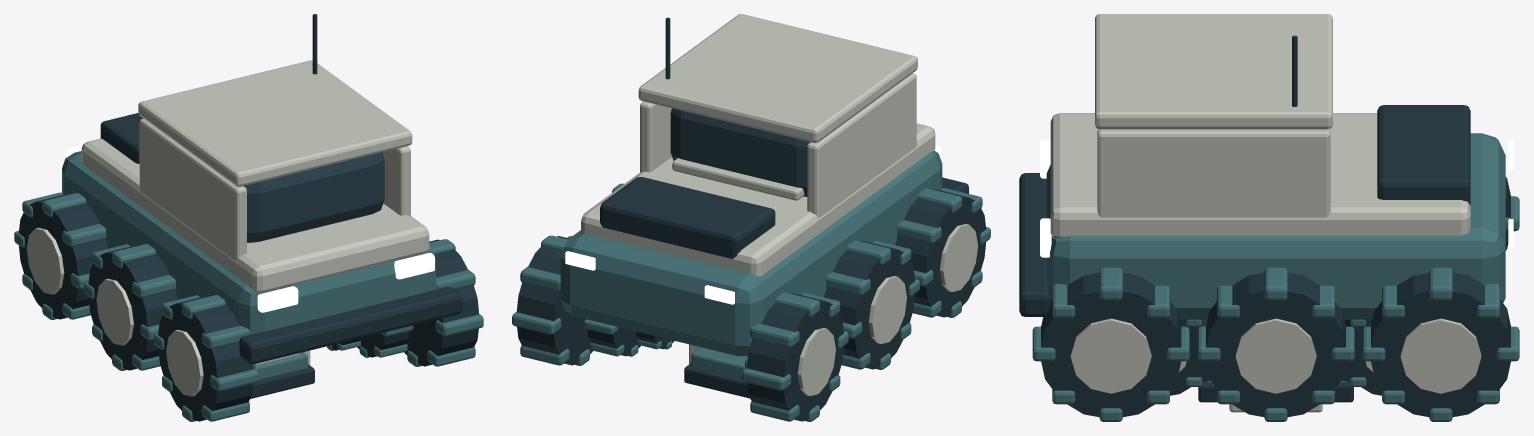
File: field-kit.glb
3 views of the same model, side by side, from view 1: azimuth 30°, elevation 25°; view 2: azimuth 150°, elevation 25°; view 3: azimuth 270°, elevation 25° (orthographic). The views are drawn at different scales.
Visible parts, largest first — view 1: crawler_body_surface_Field, crawler_wheel_l2_surface_Field, crawler_wheel_l0_surface_Field, crawler_wheel_l1_surface_Field, crawler_body_surface_Obsidian, crawler_wheel_r2_surface_Field, prop_bed_surface_Field, crawler_body_surface_Luminous, rover_wheel_r2_surface_Field; view 2: crawler_body_surface_Field, crawler_wheel_l0_surface_Field, crawler_wheel_l2_surface_Field, crawler_wheel_l1_surface_Field, crawler_body_surface_Obsidian, crawler_wheel_r0_surface_Field, prop_bed_surface_Field, rover_body_surface_Field, rover_wheel_r0_surface_Field, crawler_body_surface_Luminous, scout_wheel_r0_surface_Field; view 3: crawler_body_surface_Field, crawler_wheel_r0_surface_Field, crawler_wheel_r1_surface_Field, crawler_wheel_r2_surface_Field, rover_wheel_r2_surface_Field, rover_wheel_r0_surface_Field, crawler_body_surface_Luminous, prop_bed_surface_Field, crawler_wheel_l0_surface_Field.
Boxes of the visible parts, x1,y1,x2,y2 form: crawler_body_surface_Field: (62,14,462,364); crawler_wheel_l2_surface_Field: (153,295,258,421); crawler_wheel_l0_surface_Field: (14,192,108,319); crawler_wheel_l1_surface_Field: (84,244,177,370); crawler_body_surface_Obsidian: (244,152,384,242); crawler_wheel_r2_surface_Field: (404,239,483,366); prop_bed_surface_Field: (250,352,314,398); crawler_body_surface_Luminous: (66,145,434,312); rover_wheel_r2_surface_Field: (357,325,413,357); crawler_body_surface_Field: (560,14,968,356); crawler_wheel_l0_surface_Field: (742,292,848,421); crawler_wheel_l2_surface_Field: (895,188,990,317); crawler_wheel_l1_surface_Field: (824,240,919,369); crawler_body_surface_Obsidian: (670,108,810,196); crawler_wheel_r0_surface_Field: (512,235,592,365); prop_bed_surface_Field: (684,347,749,398); rover_body_surface_Field: (672,158,804,200); rover_wheel_r0_surface_Field: (584,319,640,356); crawler_body_surface_Luminous: (565,145,940,304); scout_wheel_r0_surface_Field: (635,331,674,349); crawler_body_surface_Field: (1019,14,1505,319); crawler_wheel_r0_surface_Field: (1362,267,1519,421); crawler_wheel_r1_surface_Field: (1197,267,1354,421); crawler_wheel_r2_surface_Field: (1032,267,1189,421); rover_wheel_r2_surface_Field: (1170,319,1207,395); rover_wheel_r0_surface_Field: (1345,319,1381,395); crawler_body_surface_Luminous: (1040,139,1513,257); prop_bed_surface_Field: (1198,380,1353,402); crawler_wheel_l0_surface_Field: (1505,177,1519,250).
Bounding box in the file's own units: 4.76 × 5.64 × 6.43.
